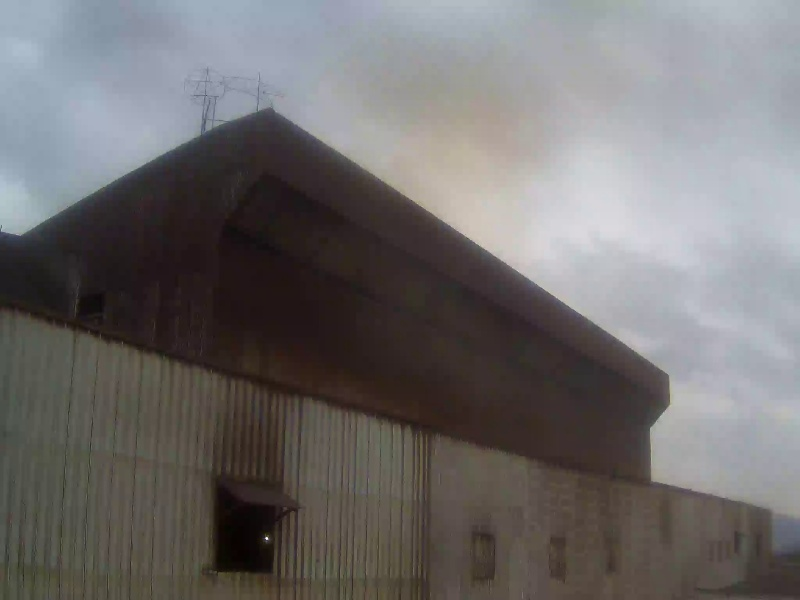bom: (19, 21, 276, 131)
ruim: (353, 41, 546, 260)
